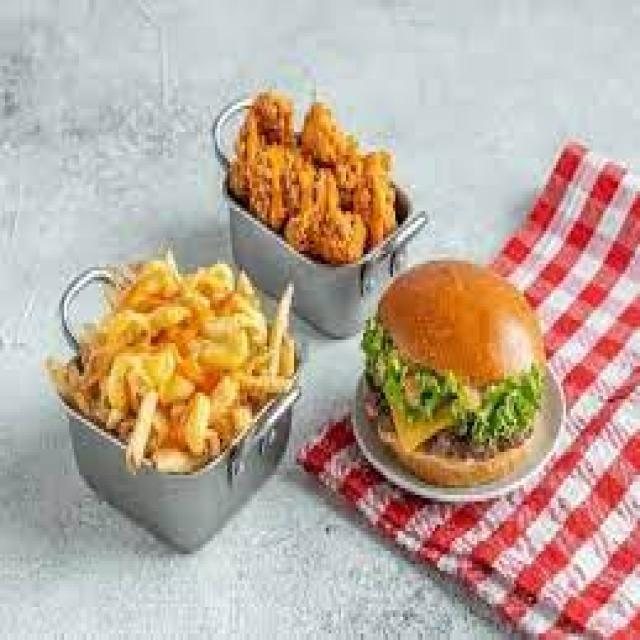감자튀김: (42, 251, 301, 551)
햄버거: (356, 261, 563, 501)
